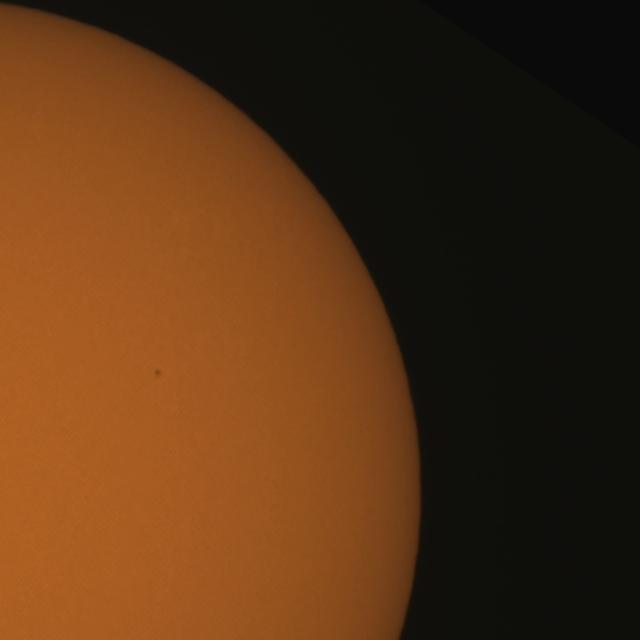sunspot: (153, 368, 162, 379)
